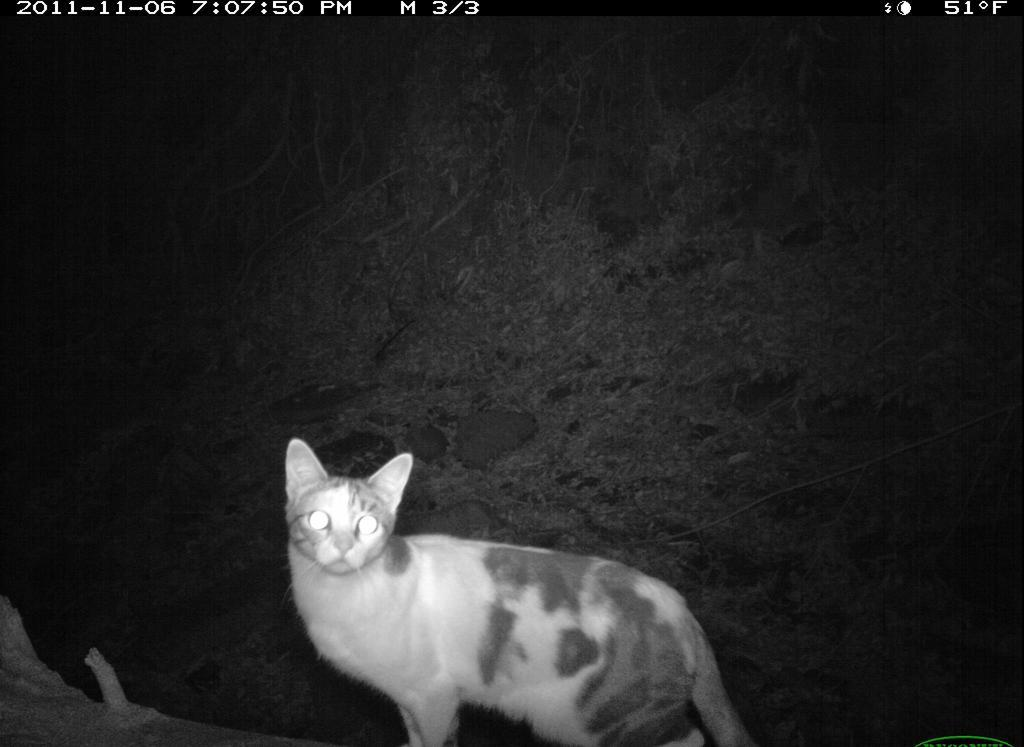cat: (271, 425, 771, 747)
